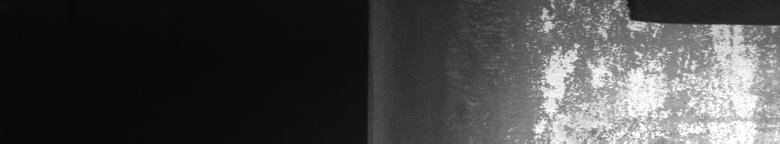kb: (526, 4, 776, 88)
